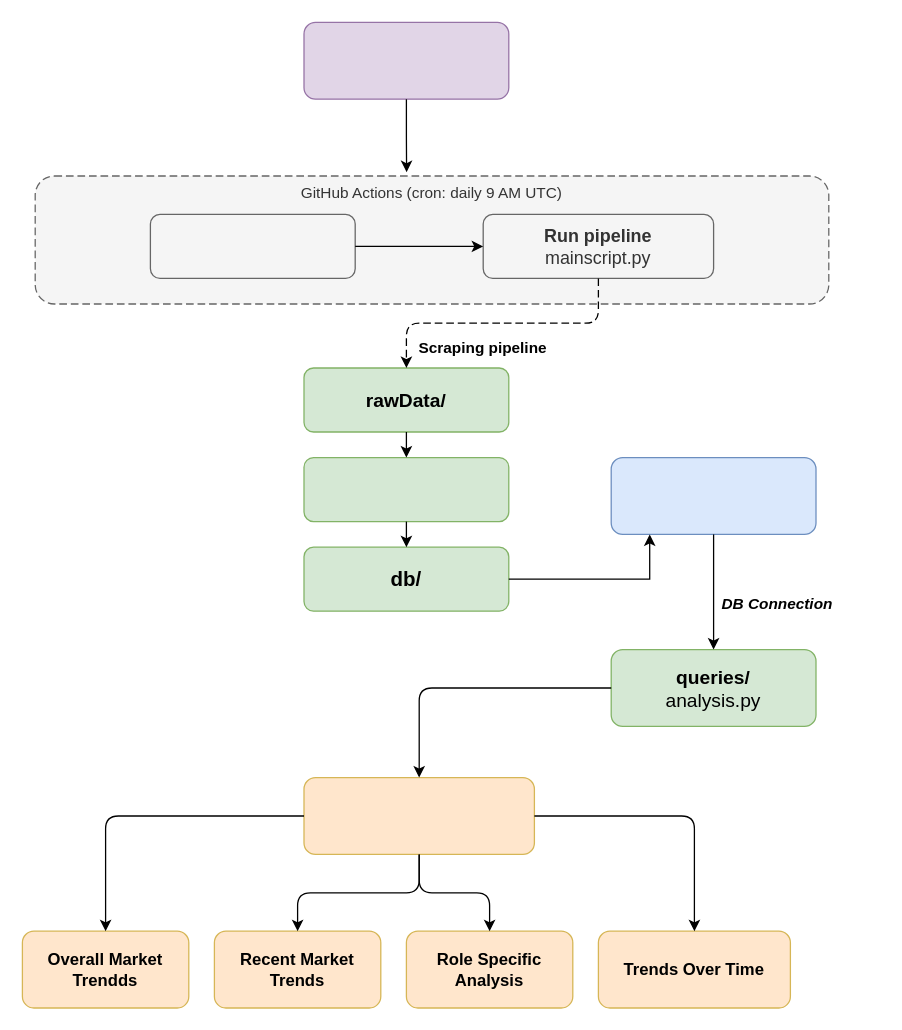
This 902x1030 diagram has some shape labels left out. The centre of each missing label's shape, as x and y in pixels:
"Internshala Job listings source" belongs at point 406,60.
"PostgreSQL Aiven cloud" belongs at point 713,495.
"Run tests pytest" belongs at point 252,245.
"Streamlit dashboard interniq.streamlit.app" belongs at point 418,815.
"transform/" belongs at point 406,489.
